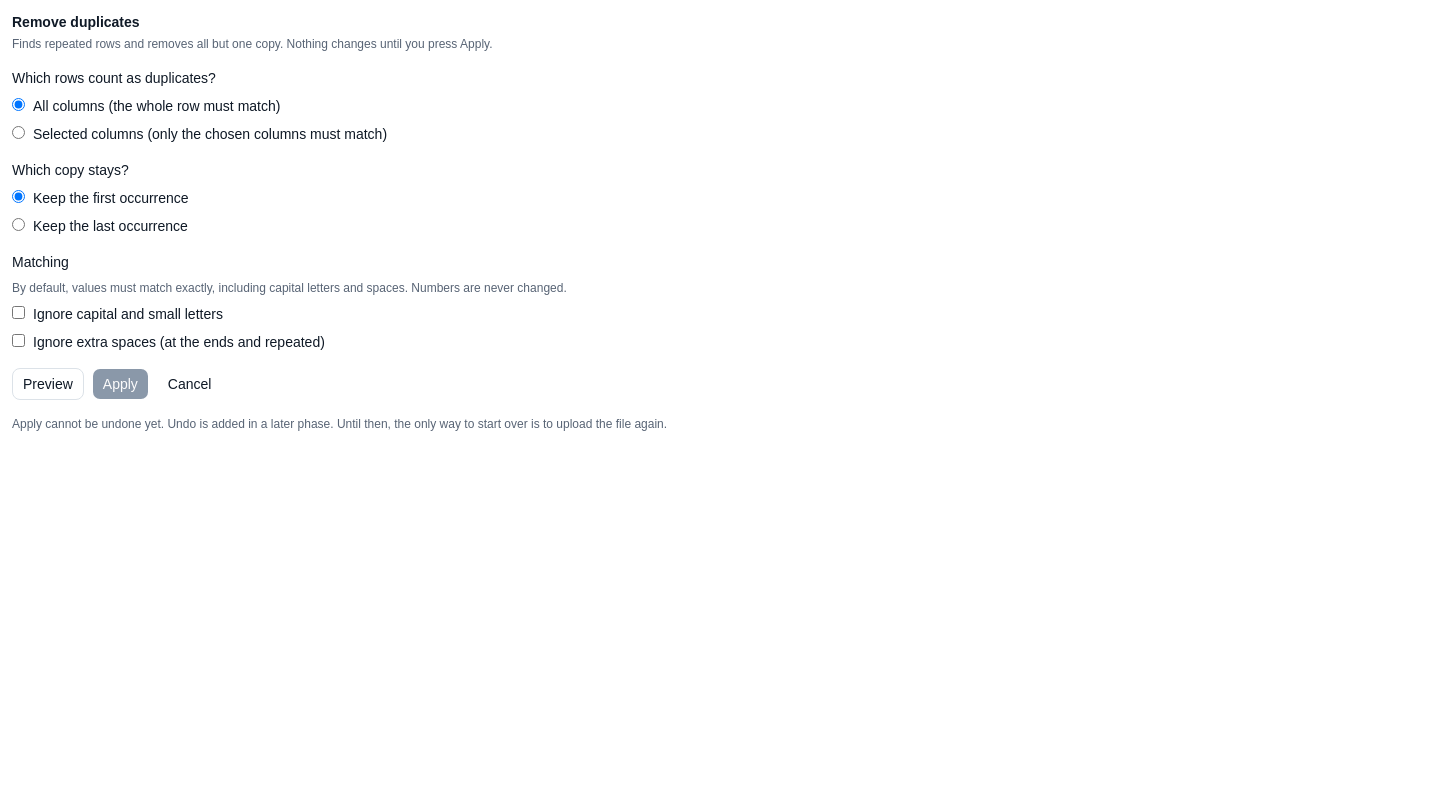
Test case: DuplicatesPanel: preview › previews with the default settings and shows the counts and the records
Click the button "Preview". click: (48,384)
box: [12,368,84,400]
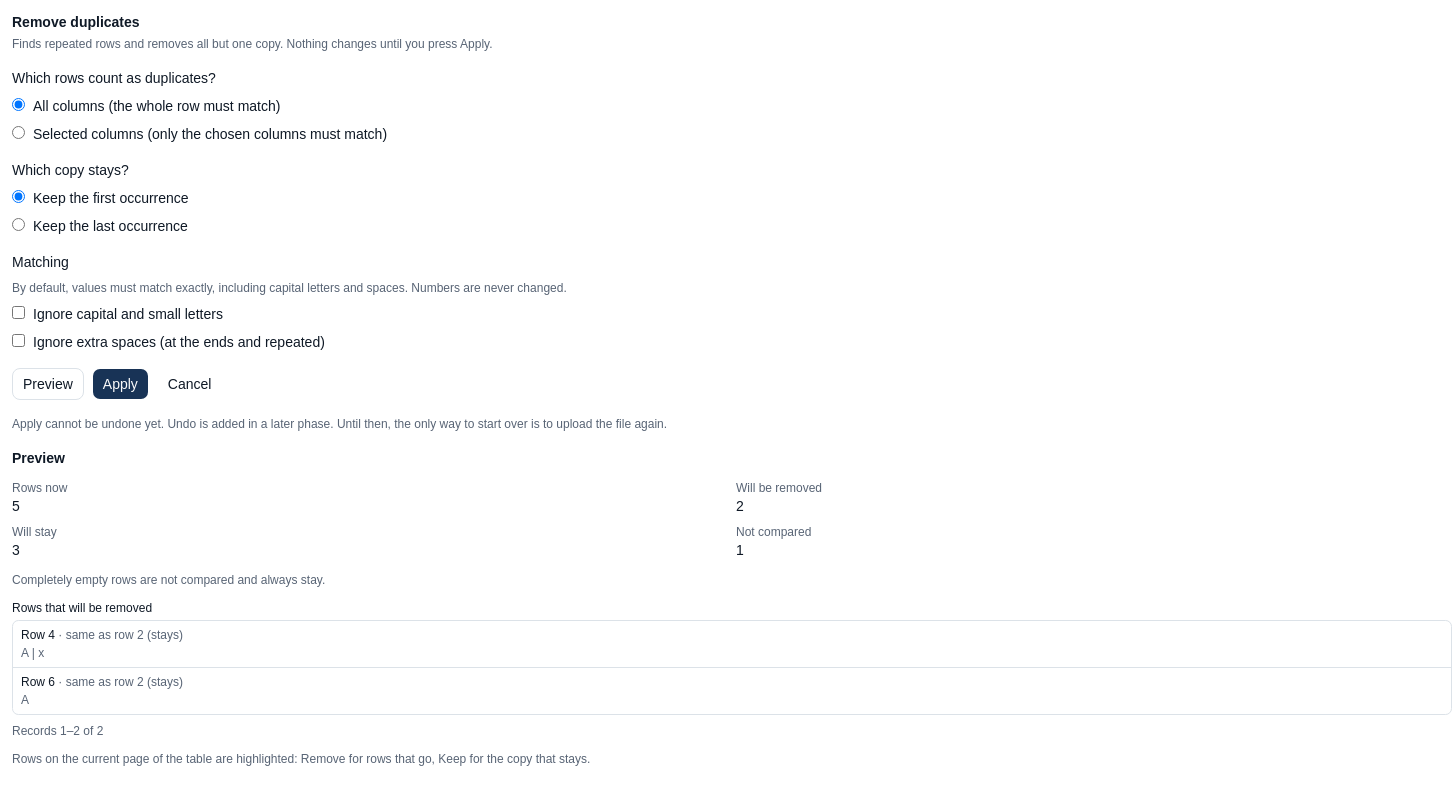
expect the element "Preview" is shown: met, box [12,448,1451,767]
expect the text "5" is shown: met, box [12,498,20,514]
expect the text "2" is shown: met, box [736,498,744,514]
